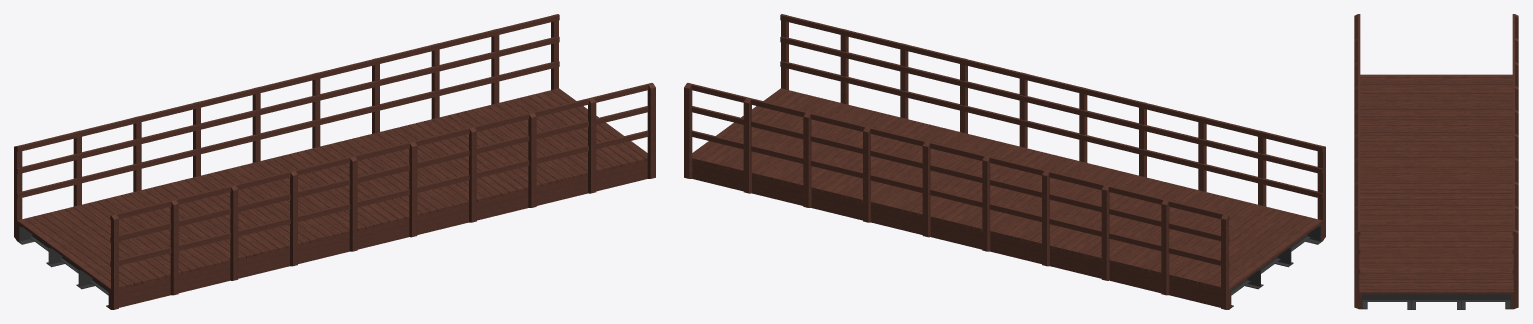
Rendered from Beam_TimberC.glb.
3 renders of one model, left to right at view 1: azimuth 30°, elevation 25°; view 2: azimuth 150°, elevation 25°; view 3: azimuth 270°, elevation 25°, orthographic. The views are drawn at different scales.
Size of the model in its own units: 10 by 1.68 by 3.19.
2 materials, 1 textured.
